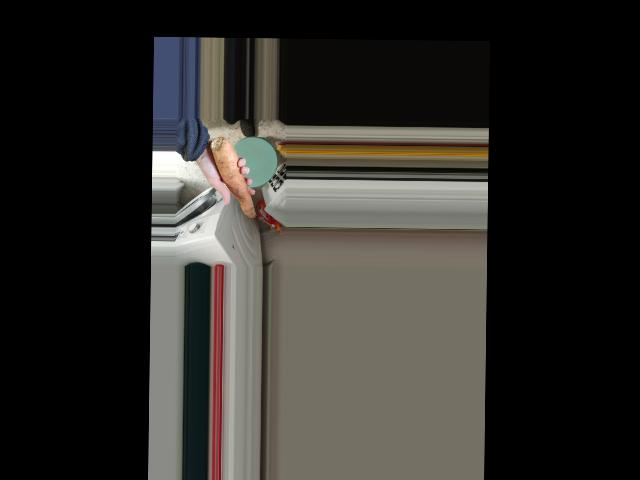sweet_potato: (207, 135, 260, 224)
